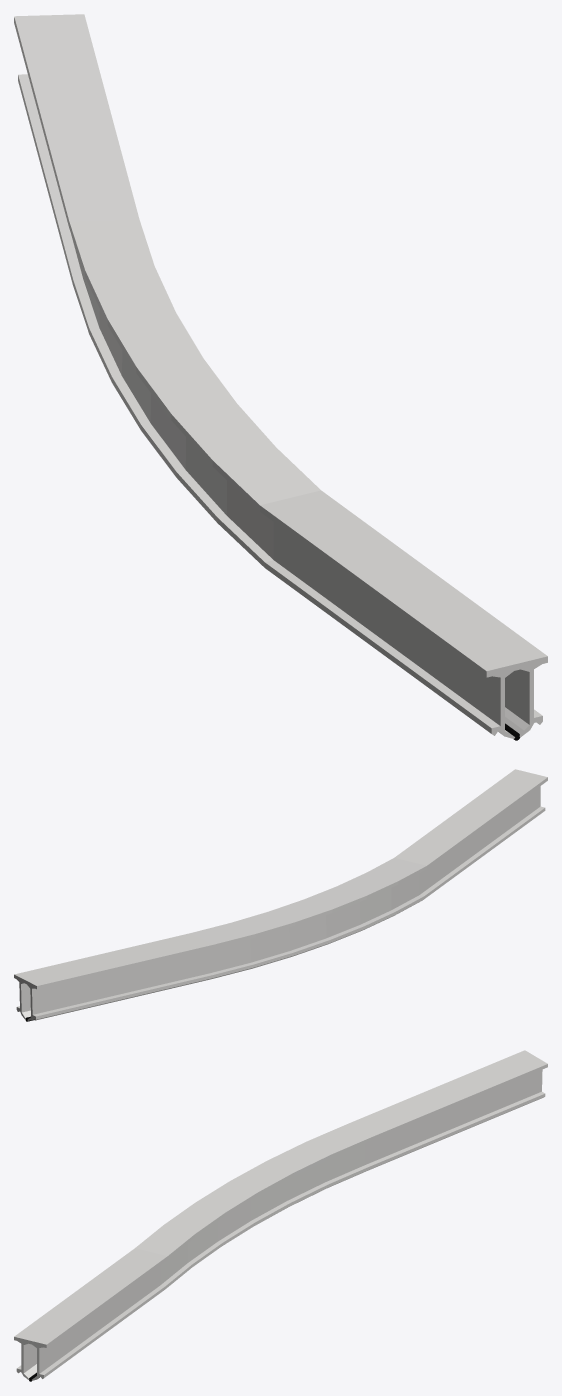
Rendered from catenary_rigid_end_r.obj.
3 views of the same model, one above another, from view 1: azimuth 30°, elevation 25°; view 2: azimuth 150°, elevation 25°; view 3: azimuth 330°, elevation 25° (orthographic). The views are drawn at different scales.
Visible parts, largest first — view 1: 1.001; view 2: 1.001; view 3: 1.001.
Boxes of the visible parts, bbox=[...] form: 1.001: bbox=[14, 14, 547, 740]; 1.001: bbox=[14, 769, 547, 1021]; 1.001: bbox=[14, 1050, 547, 1381].
Bounding box in the file's own units: 0.9138 × 0.4373 × 3.78.
2 materials, 2 textured.
